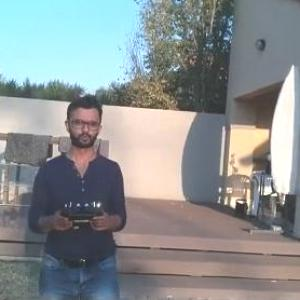follow: (24, 88, 132, 299)
